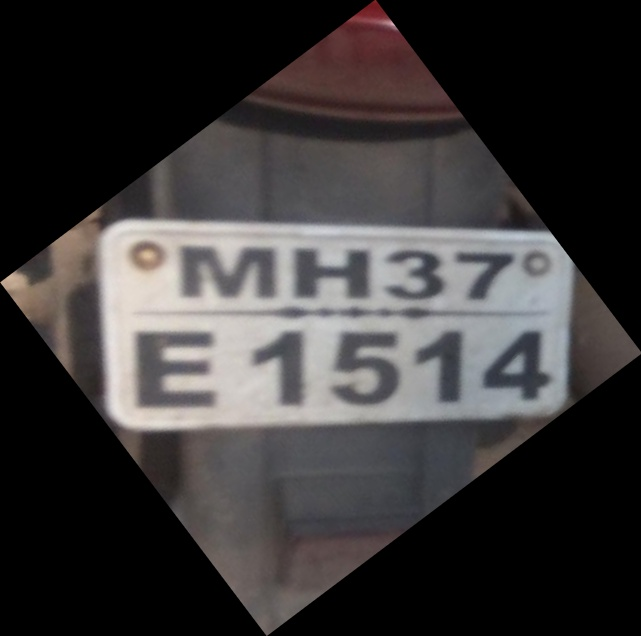character: (136, 327, 215, 411), (177, 243, 277, 302), (329, 327, 399, 405), (481, 331, 548, 401), (293, 244, 371, 298), (252, 328, 306, 406), (413, 329, 460, 404), (383, 248, 442, 300), (455, 249, 514, 300)
